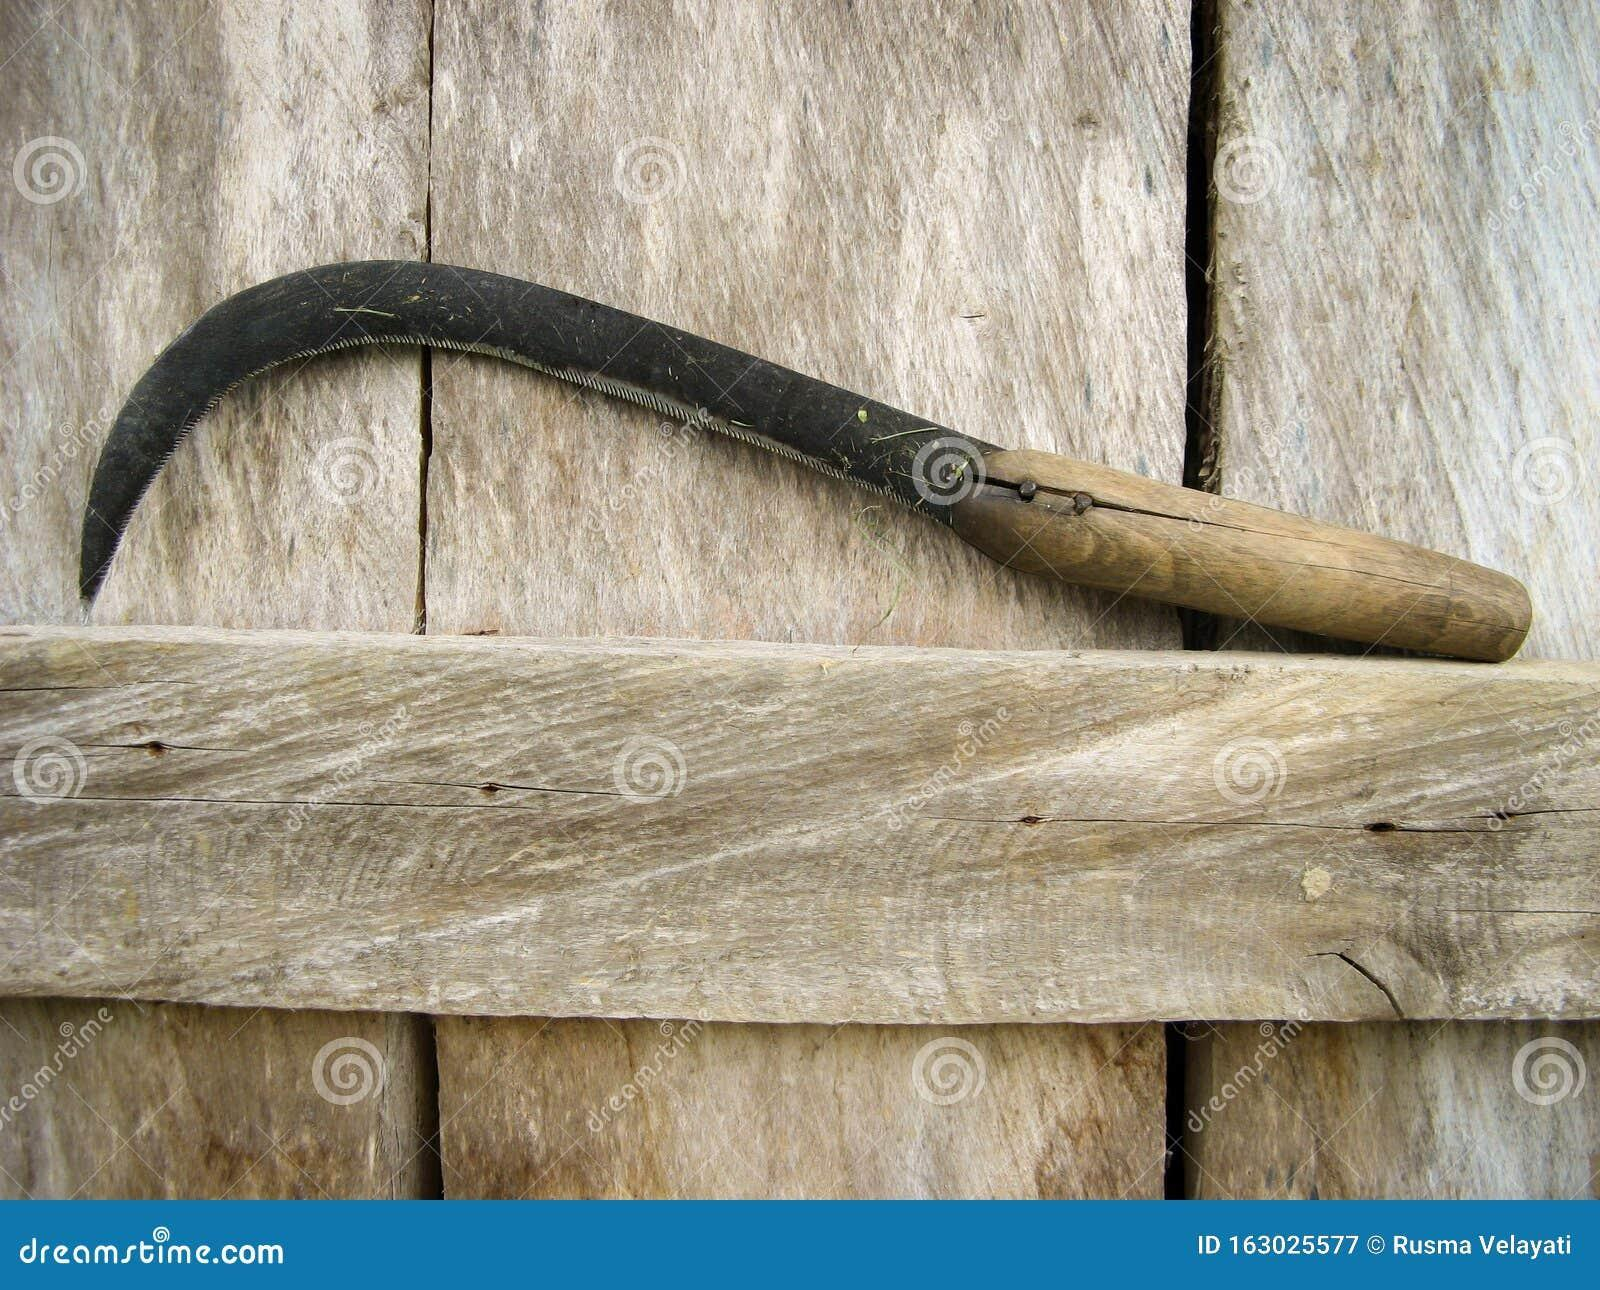foice: (80, 261, 1530, 662)
